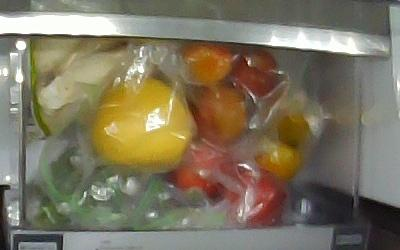apple_vinyl: (170, 141, 233, 203), (223, 170, 287, 224)
grapefruit_vinyl: (92, 79, 195, 176)
persimmon_vinyl: (257, 98, 322, 146), (241, 135, 302, 180)
prune_vinyl: (190, 83, 251, 146), (226, 46, 279, 102), (179, 38, 233, 89)
